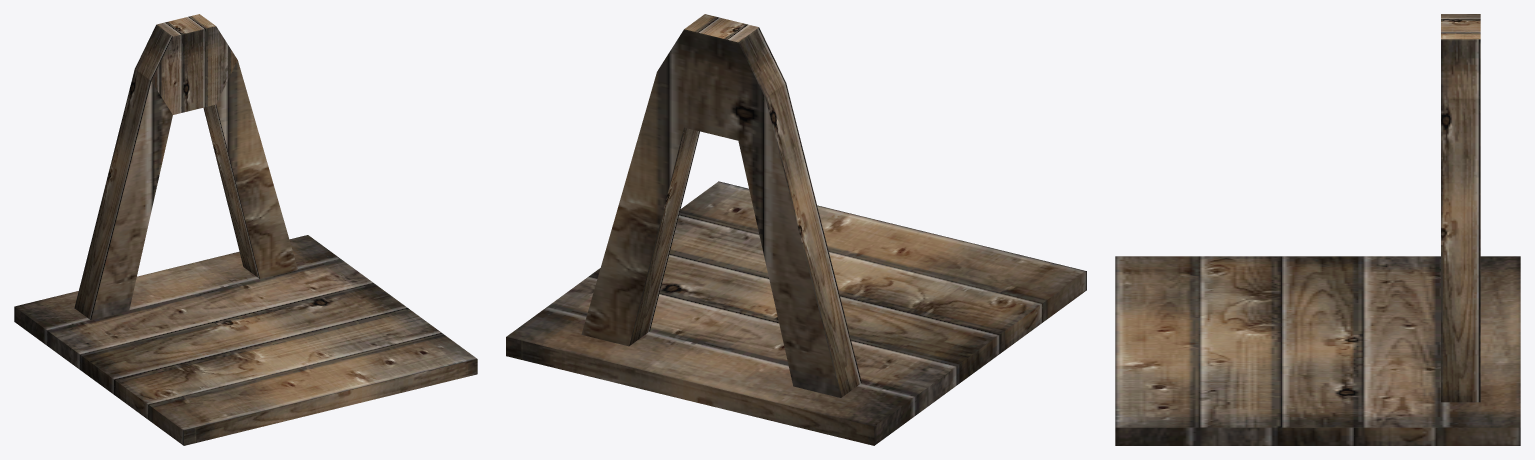
The model's file is building_torture_wheel.glb.
The picture shows the model from 3 angles, left to right: view 1: azimuth 30°, elevation 25°; view 2: azimuth 150°, elevation 25°; view 3: azimuth 270°, elevation 25°; orthographic projection. The views are drawn at different scales.
Parts seen in each view (by area): view 1: building_torture_wheel; view 2: building_torture_wheel; view 3: building_torture_wheel.
Part boxes in pixels (x1,y1,x2,y2): building_torture_wheel: (14,14,477,445); building_torture_wheel: (506,14,1086,445); building_torture_wheel: (1115,14,1520,445).
Bounding box in the file's own units: 2.05 × 1.86 × 2.05.
Materials: 1 (1 with a texture image).
